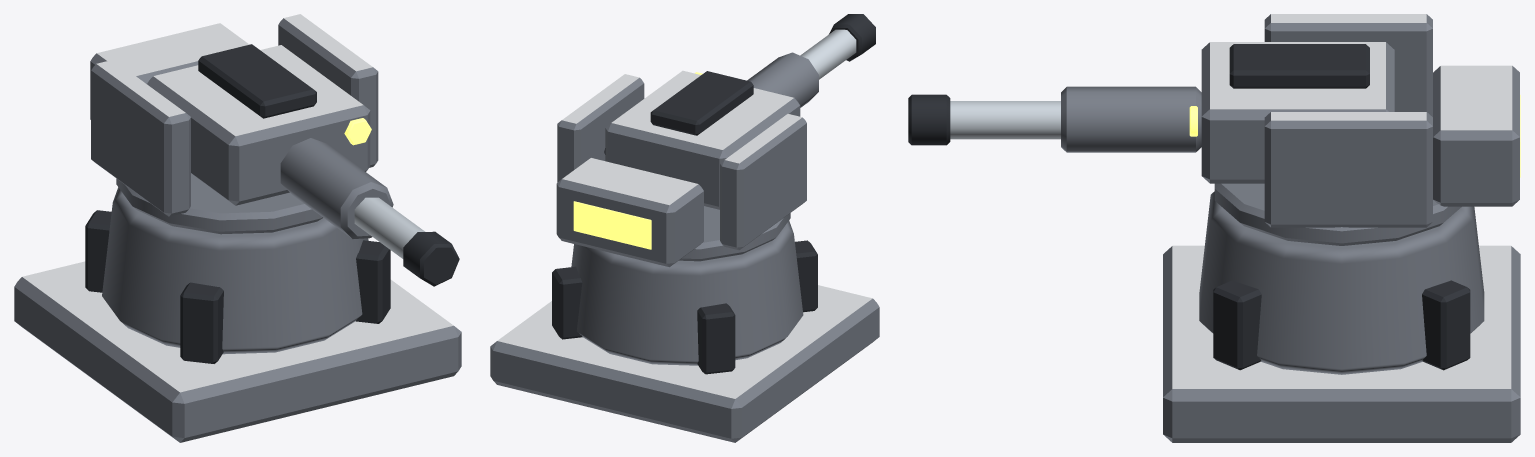
Rendered from R4W_Basic_LOD1.fbx.
3 views of the same model, side by side, from view 1: azimuth 30°, elevation 25°; view 2: azimuth 150°, elevation 25°; view 3: azimuth 270°, elevation 25° (orthographic). The views are drawn at different scales.
Parts seen in each view (by area): view 1: R4W_Basic_LOD1; view 2: R4W_Basic_LOD1; view 3: R4W_Basic_LOD1.
Part boxes in pixels (x1,y1,x2,y2): R4W_Basic_LOD1: [14, 14, 461, 442]; R4W_Basic_LOD1: [490, 14, 879, 442]; R4W_Basic_LOD1: [908, 14, 1520, 442].
Size of the model in its own units: 0.51 by 0.494 by 0.873.
